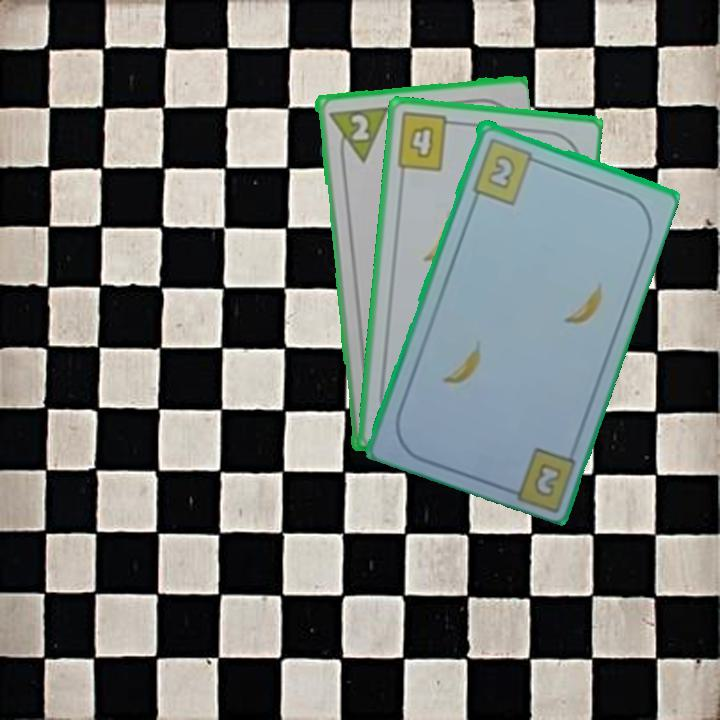2b: (468, 134, 543, 207), (530, 458, 565, 500)
2p: (324, 102, 389, 166)
4b: (392, 109, 461, 174)
